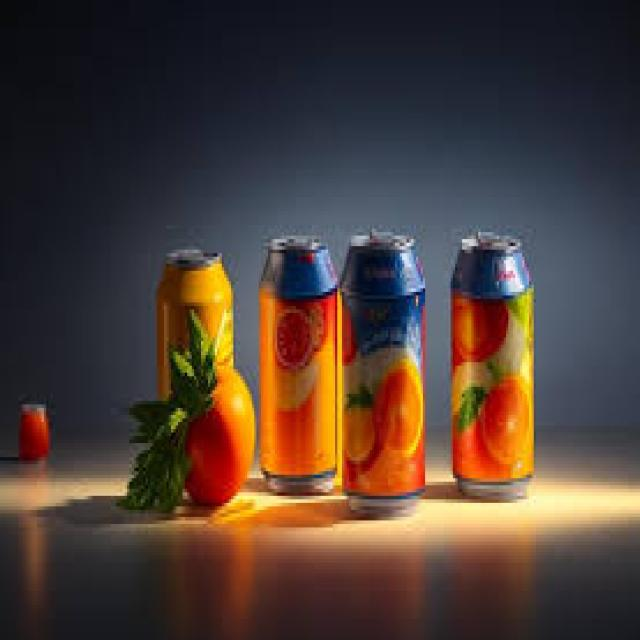Cans: (340, 225, 434, 513), (446, 222, 538, 506), (254, 229, 347, 492)
